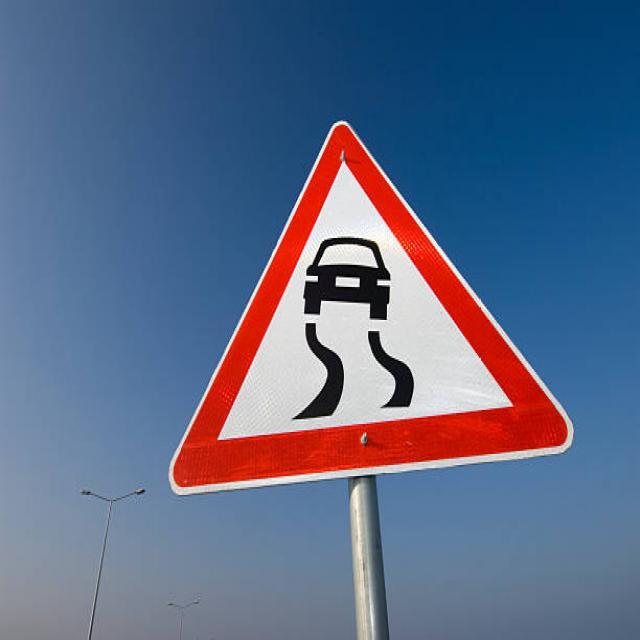road_slippery: (169, 113, 575, 496)
